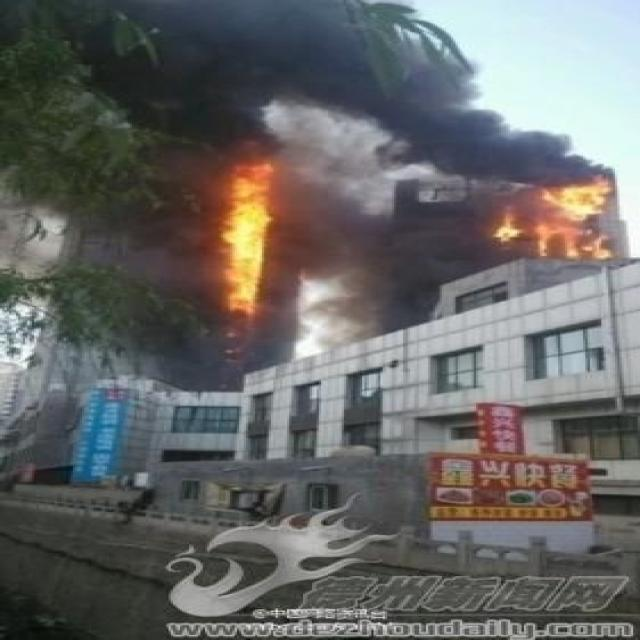Fire: (218, 164, 274, 315), (535, 176, 617, 262), (492, 214, 526, 244)
Smoke: (84, 2, 617, 390)
